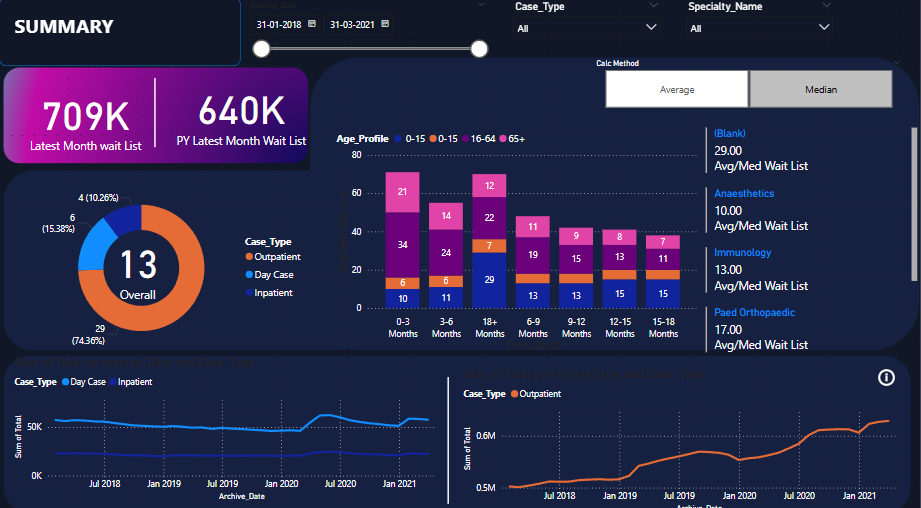

The page's visual inventory and layout, read from the dashboard file:
{"tool":"powerbi","page":{"name":"Summary","canvas":[1280,720],"ordinal":0},"visuals":[{"type":"card","fields":{"Values":["All_Data.Latest Month wait List"]},"box":[0,80,240,176],"z":0},{"type":"card","fields":{"Values":["All_Data.PY Latest Month Wait List"]},"box":[208,80,256,160],"z":1000},{"type":"slicer","fields":{"Values":["Calculation Method.Calc Method"]},"box":[816,80,448,80],"z":2000},{"type":"donutChart","fields":{"Category":["All_Data.Case_Type"],"Y":["All_Data.Avg/Med Wait List"]},"box":[48,240,384,272],"z":3000},{"type":"columnChart","fields":{"Y":["All_Data.Avg/Med Wait List"],"Category":["All_Data.Time_Bands"],"Series":["All_Data.Age_Profile"]},"box":[464,176,512,320],"z":4000},{"type":"multiRowCard","fields":{"Values":["All_Data.Specialty_Name","All_Data.Avg/Med Wait List"]},"box":[976,176,304,336],"z":5000},{"type":"lineChart","fields":{"Category":["All_Data.Archive_Date"],"Y":["Sum(All_Data.Total)"],"Series":["All_Data.Case_Type"]},"box":[640,512,624,208],"z":6000},{"type":"slicer","fields":{"Values":["All_Data.Archive_Date"]},"box":[336,0,352,96],"z":7000},{"type":"slicer","fields":{"Values":["All_Data.Case_Type"]},"box":[704,0,224,96],"z":8000},{"type":"slicer","fields":{"Values":["All_Data.Specialty_Name"]},"box":[944,0,224,96],"z":9000},{"type":"lineChart","fields":{"Category":["All_Data.Archive_Date"],"Y":["Sum(All_Data.Total)"],"Series":["All_Data.Case_Type"]},"box":[16,496,608,208],"z":10000},{"type":"shape","box":[0,0,336,96],"z":11000},{"type":"textbox","box":[16,16,192,64],"z":12000},{"type":"card","fields":{"Values":["All_Data.Avg/Med Wait List"]},"box":[112,320,160,112],"z":12001},{"type":"shape","box":[48,112,336,96],"z":12002},{"type":"shape","box":[464,528,320,176],"z":12003},{"type":"actionButton","box":[1216,512,48,32],"z":12004}]}

Visuals, with their boxes in screenshot pixels (x1, y1, x2, y2), scaled from the page's 1280x720 canvas onto the 921x508 screenshot:
card - All_Data.Latest Month wait List: <bbox>0, 56, 173, 181</bbox>
card - All_Data.PY Latest Month Wait List: <bbox>150, 56, 334, 169</bbox>
slicer - Calculation Method.Calc Method: <bbox>587, 56, 909, 113</bbox>
donutChart - All_Data.Case_Type x All_Data.Avg/Med Wait List: <bbox>35, 169, 311, 361</bbox>
columnChart - All_Data.Avg/Med Wait List x All_Data.Time_Bands: <bbox>334, 124, 702, 350</bbox>
multiRowCard - All_Data.Specialty_Name x All_Data.Avg/Med Wait List: <bbox>702, 124, 920, 361</bbox>
lineChart - All_Data.Archive_Date x Sum(All_Data.Total): <bbox>460, 361, 909, 507</bbox>
slicer - All_Data.Archive_Date: <bbox>242, 0, 495, 68</bbox>
slicer - All_Data.Case_Type: <bbox>507, 0, 668, 68</bbox>
slicer - All_Data.Specialty_Name: <bbox>679, 0, 840, 68</bbox>
lineChart - All_Data.Archive_Date x Sum(All_Data.Total): <bbox>12, 350, 449, 497</bbox>
shape: <bbox>0, 0, 242, 68</bbox>
textbox: <bbox>12, 11, 150, 56</bbox>
card - All_Data.Avg/Med Wait List: <bbox>81, 226, 196, 305</bbox>
shape: <bbox>35, 79, 276, 147</bbox>
shape: <bbox>334, 373, 564, 497</bbox>
actionButton: <bbox>875, 361, 909, 384</bbox>
